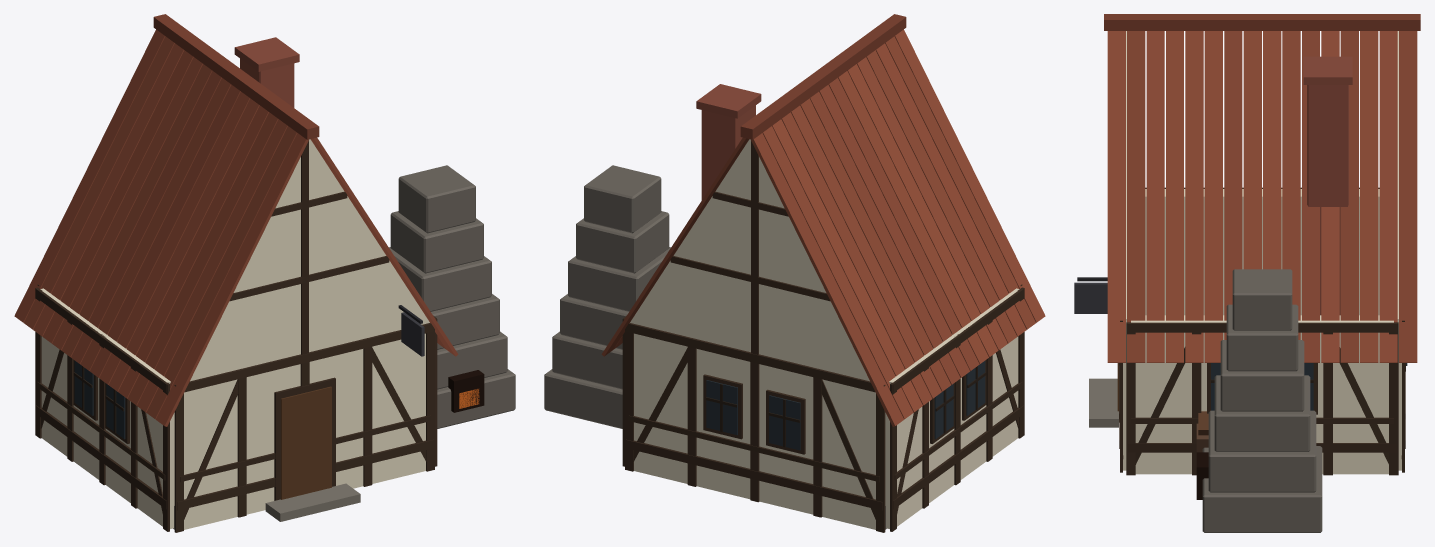
The model's file is smelter_2.glb.
3 renders of one model, left to right at view 1: azimuth 30°, elevation 25°; view 2: azimuth 150°, elevation 25°; view 3: azimuth 270°, elevation 25°, orthographic. The views are drawn at different scales.
Parts seen in each view (by area): view 1: smelter2_tiles, smelter2_plaster, smelter2_wood, smelter2_stone, smelter2_brick, smelter2_glass, smelter2_soot; view 2: smelter2_tiles, smelter2_plaster, smelter2_wood, smelter2_stone, smelter2_glass, smelter2_brick; view 3: smelter2_tiles, smelter2_stone, smelter2_plaster, smelter2_wood, smelter2_brick, smelter2_glass, smelter2_soot.
Boxes of the visible parts, left/top/right/bottom form: smelter2_tiles: left=14, top=14, right=458, bottom=426; smelter2_plaster: left=40, top=139, right=429, bottom=529; smelter2_wood: left=35, top=140, right=437, bottom=532; smelter2_stone: left=173, top=165, right=515, bottom=529; smelter2_brick: left=234, top=37, right=299, bottom=107; smelter2_glass: left=74, top=361, right=479, bottom=439; smelter2_soot: left=448, top=370, right=484, bottom=412; smelter2_tiles: left=601, top=14, right=1045, bottom=426; smelter2_plaster: left=630, top=139, right=1019, bottom=529; smelter2_wood: left=622, top=140, right=1024, bottom=532; smelter2_stone: left=544, top=165, right=886, bottom=529; smelter2_glass: left=706, top=361, right=985, bottom=450; smelter2_brick: left=696, top=84, right=761, bottom=199; smelter2_tiles: left=1104, top=14, right=1420, bottom=362; smelter2_stone: left=1089, top=269, right=1322, bottom=532; smelter2_plaster: left=1123, top=31, right=1401, bottom=474; smelter2_wood: left=1074, top=187, right=1405, bottom=475; smelter2_brick: left=1303, top=56, right=1352, bottom=315; smelter2_glass: left=1211, top=363, right=1407, bottom=410; smelter2_soot: left=1196, top=452, right=1208, bottom=499.
Bounding box in the file's own units: 7.93 × 7.24 × 5.8.
